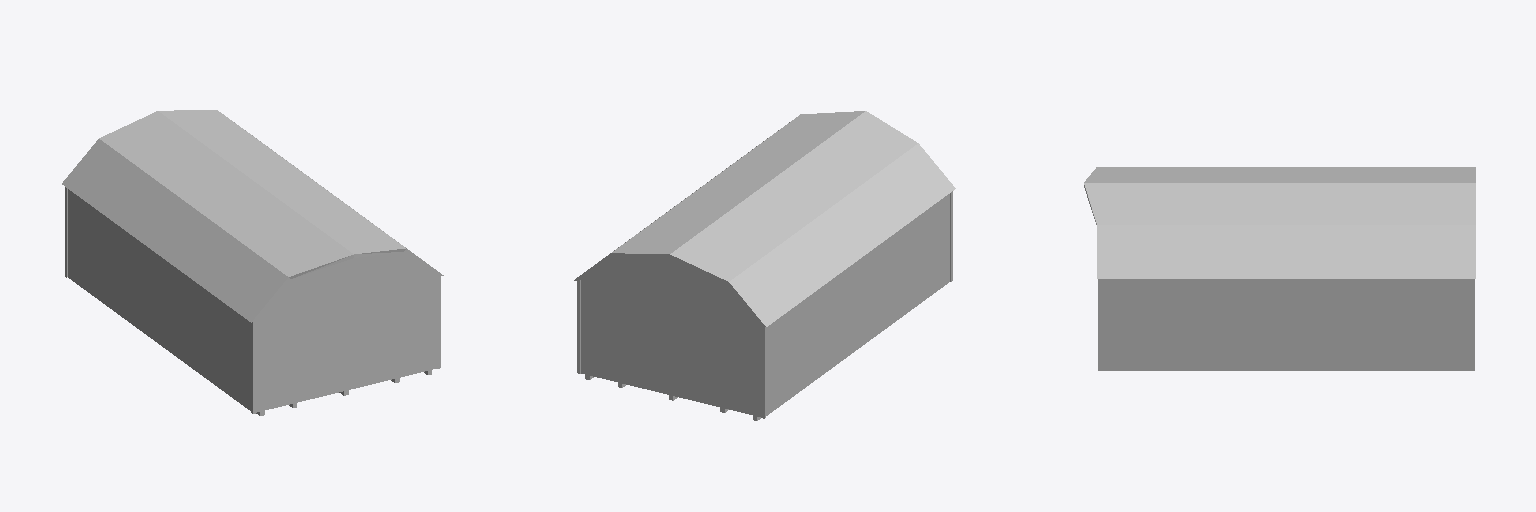
Rendered from High Wall Barns_14x24.obj.
The picture shows the model from 3 angles: view 1: azimuth 30°, elevation 25°; view 2: azimuth 150°, elevation 25°; view 3: azimuth 270°, elevation 25°; orthographic projection.
Parts seen in each view (by area): view 1: High Wall Barns_14x24.obj; view 2: High Wall Barns_14x24.obj; view 3: High Wall Barns_14x24.obj.
Boxes of the visible parts, x1=… form: High Wall Barns_14x24.obj: x1=62, y1=110, x2=443, y2=415; High Wall Barns_14x24.obj: x1=574, y1=111, x2=955, y2=420; High Wall Barns_14x24.obj: x1=1084, y1=167, x2=1475, y2=370.
Size of the model in its own units: 4.36 by 3.17 by 7.67.